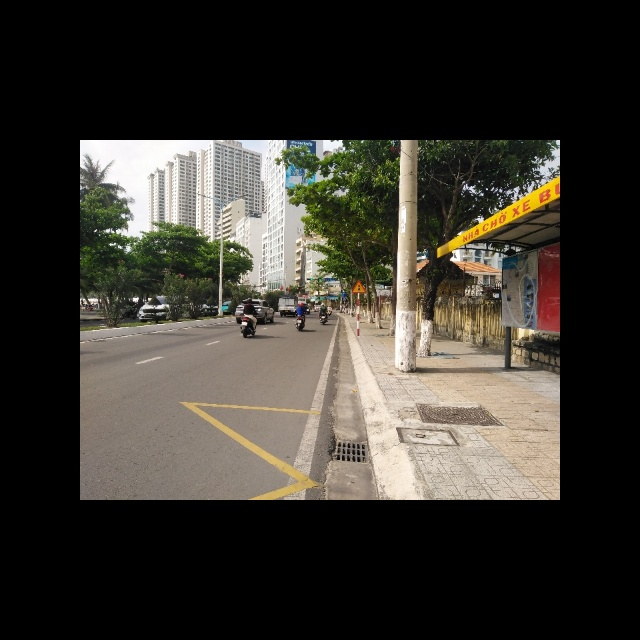Giao nhau có tín hiệu đèn: (352, 278, 367, 294)
